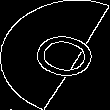O_SE: (12, 24, 98, 86)
